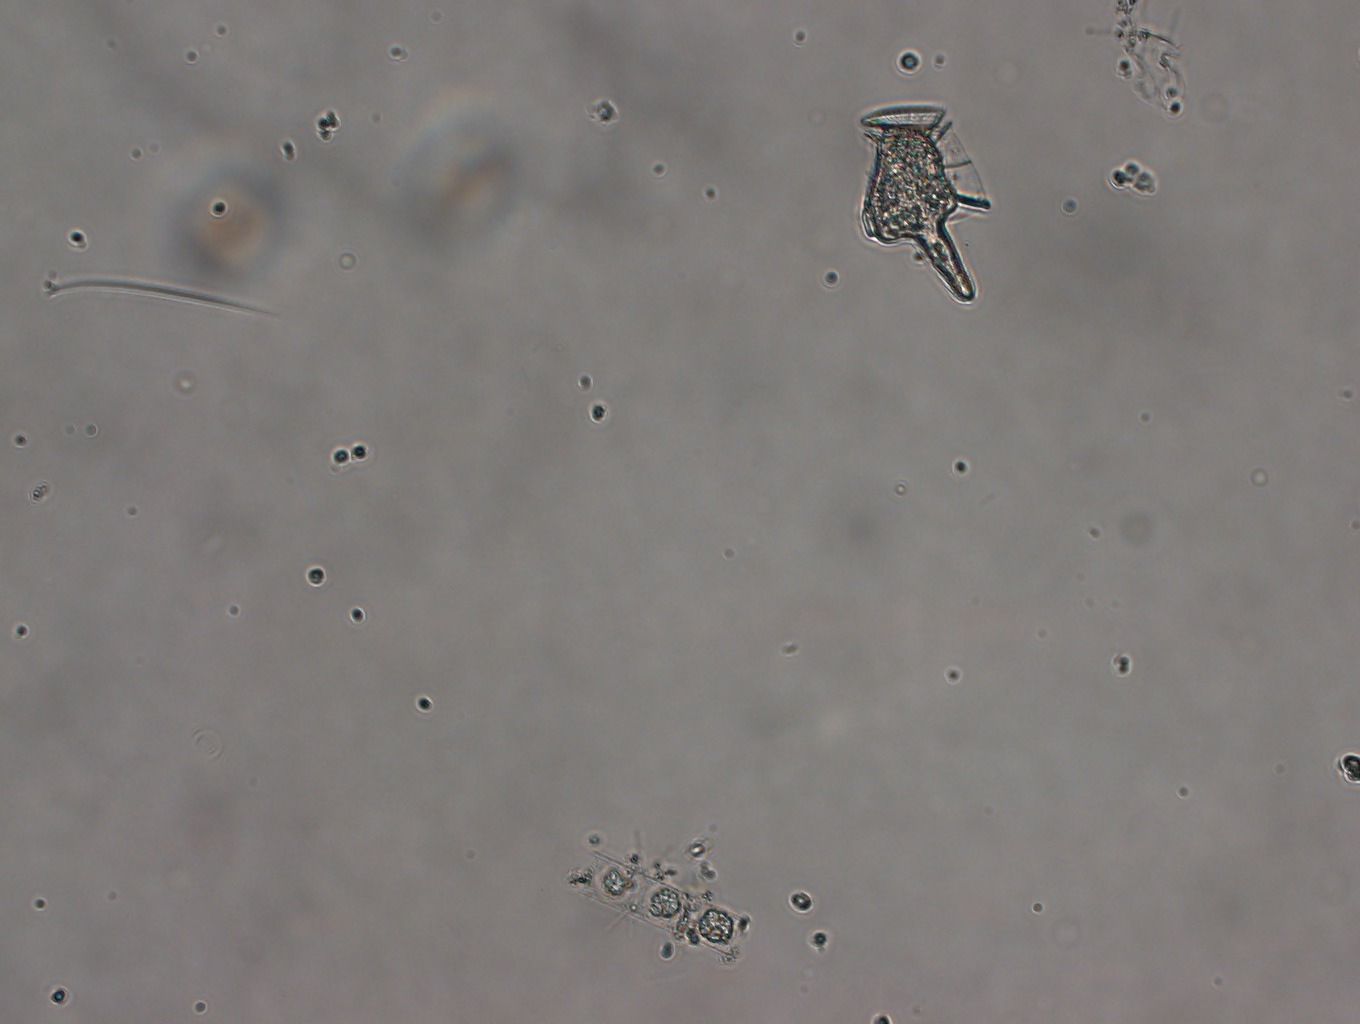chaetoceros: (553, 811, 756, 977)
dinophysis caudata: (840, 98, 998, 309)
